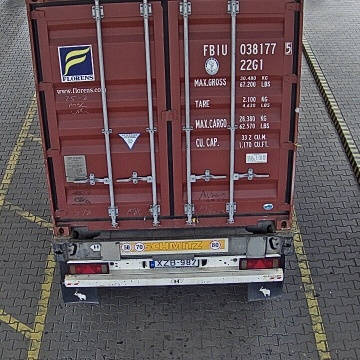serial_id: (204, 42, 292, 55)
